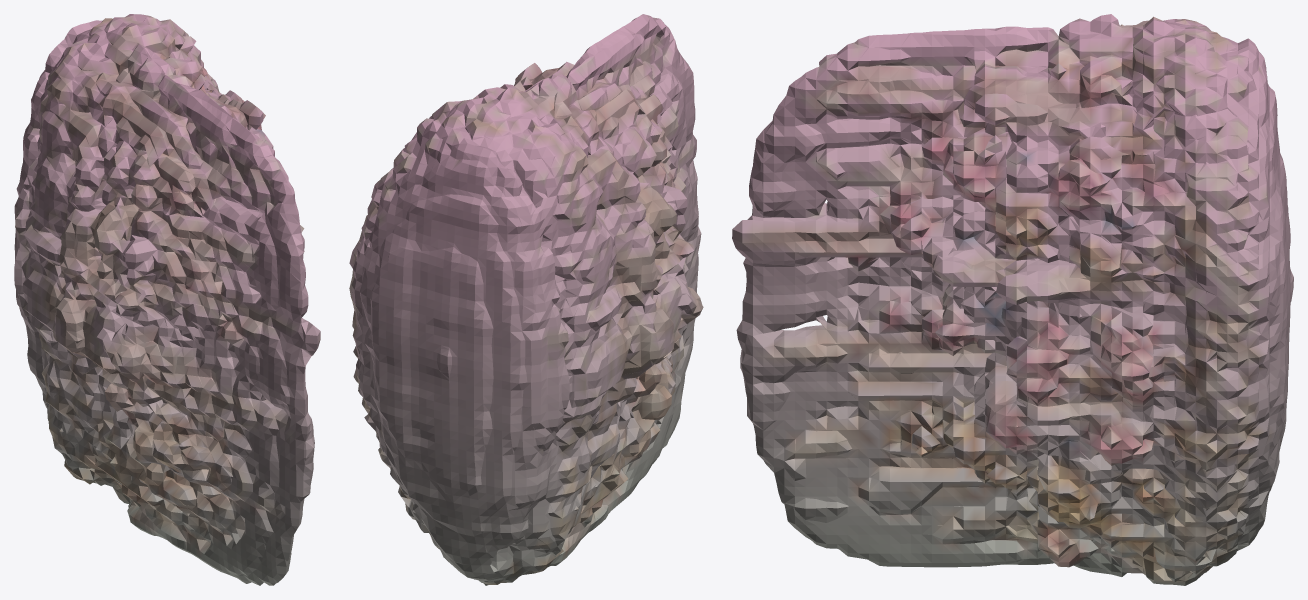
File: bloom_ridge.glb
3 renders of one model, left to right at view 1: azimuth 30°, elevation 25°; view 2: azimuth 150°, elevation 25°; view 3: azimuth 270°, elevation 25°, orthographic. The views are drawn at different scales.
Parts seen in each view (by area): view 1: world; view 2: world; view 3: world.
Part boxes in pixels (left/top/right/bottom): world: left=14, top=14, right=320, bottom=585; world: left=349, top=14, right=703, bottom=585; world: left=732, top=14, right=1293, bottom=585.
Bounding box in the file's own units: 6.3 × 12 × 10.87.
